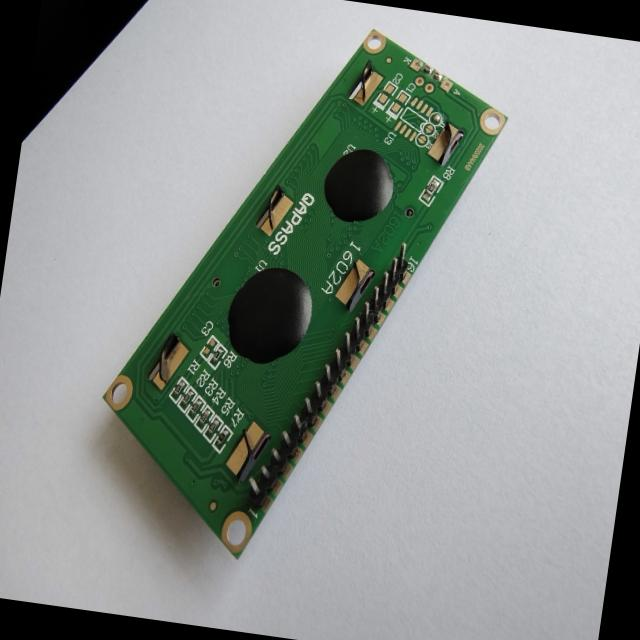lcd: (81, 0, 518, 589)
